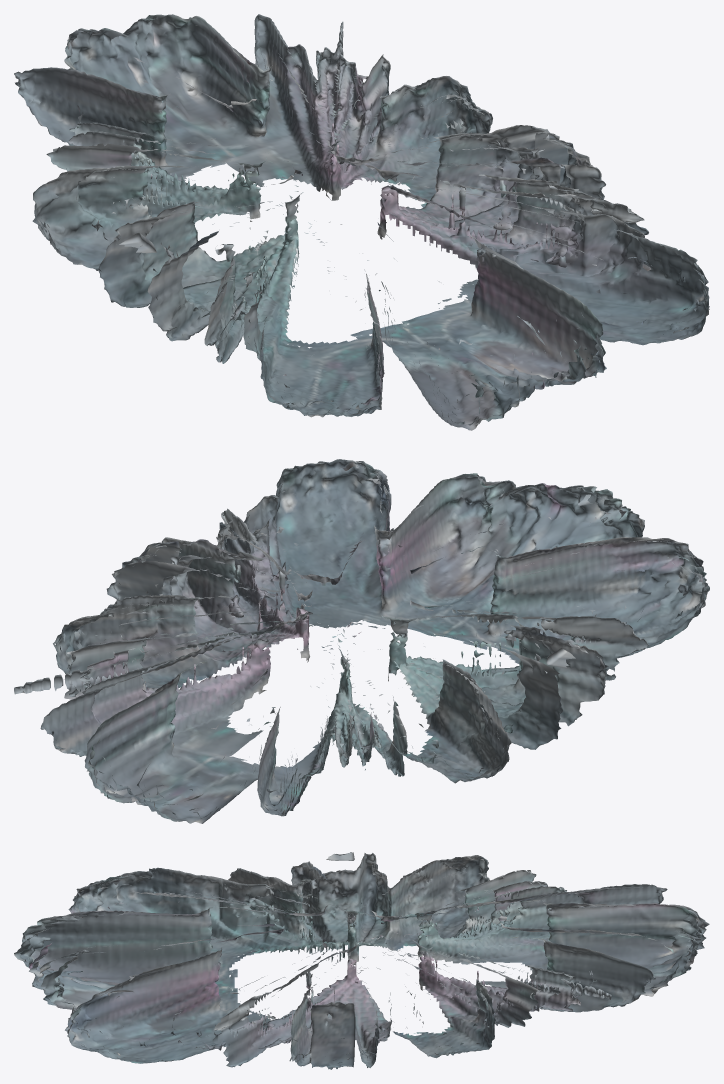
File: gen-5.glb
The picture shows the model from 3 angles, top to bottom: view 1: azimuth 30°, elevation 25°; view 2: azimuth 150°, elevation 25°; view 3: azimuth 270°, elevation 25°; orthographic projection. The views are drawn at different scales.
Parts seen in each view (by area): view 1: world; view 2: world; view 3: world.
Boxes of the visible parts, x1=… form: world: x1=14, y1=14, x2=709, y2=430; world: x1=14, y1=459, x2=709, y2=823; world: x1=14, y1=852, x2=709, y2=1069.
Bounding box in the file's own units: 24.59 × 5.53 × 41.34.
